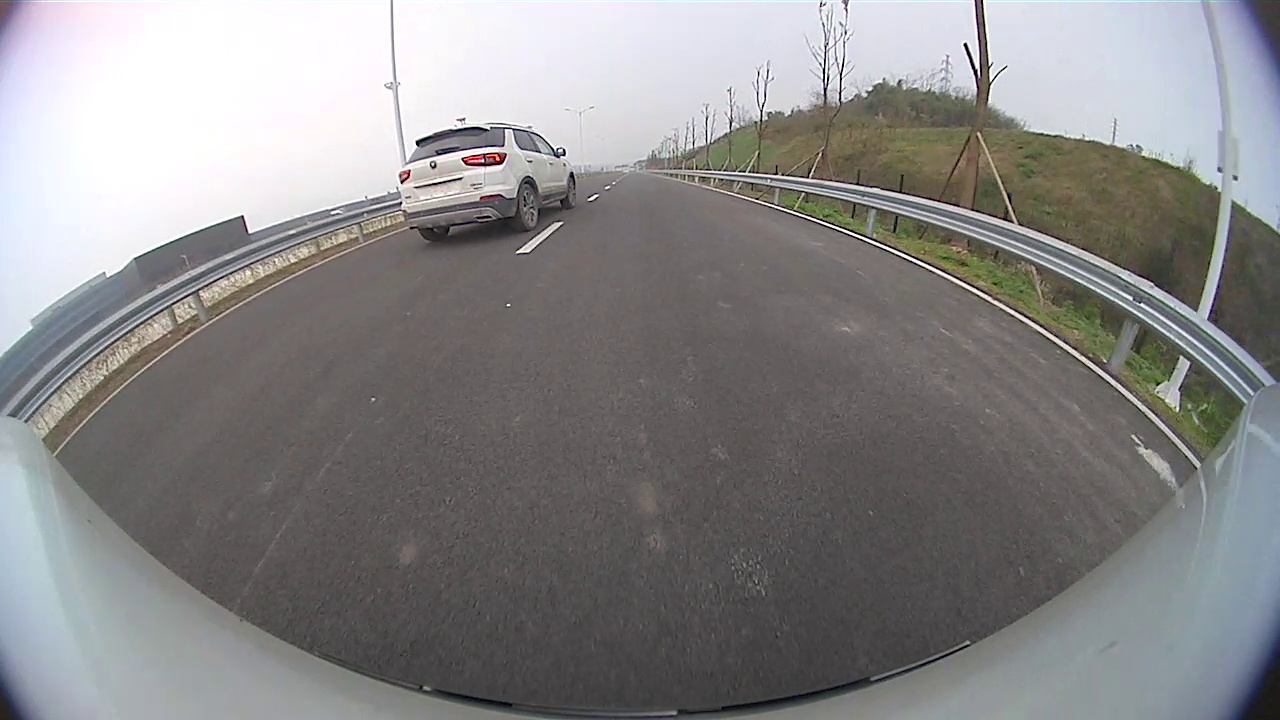car: (395, 119, 581, 243)
front: (567, 177, 578, 211)
rear: (514, 182, 540, 233)
